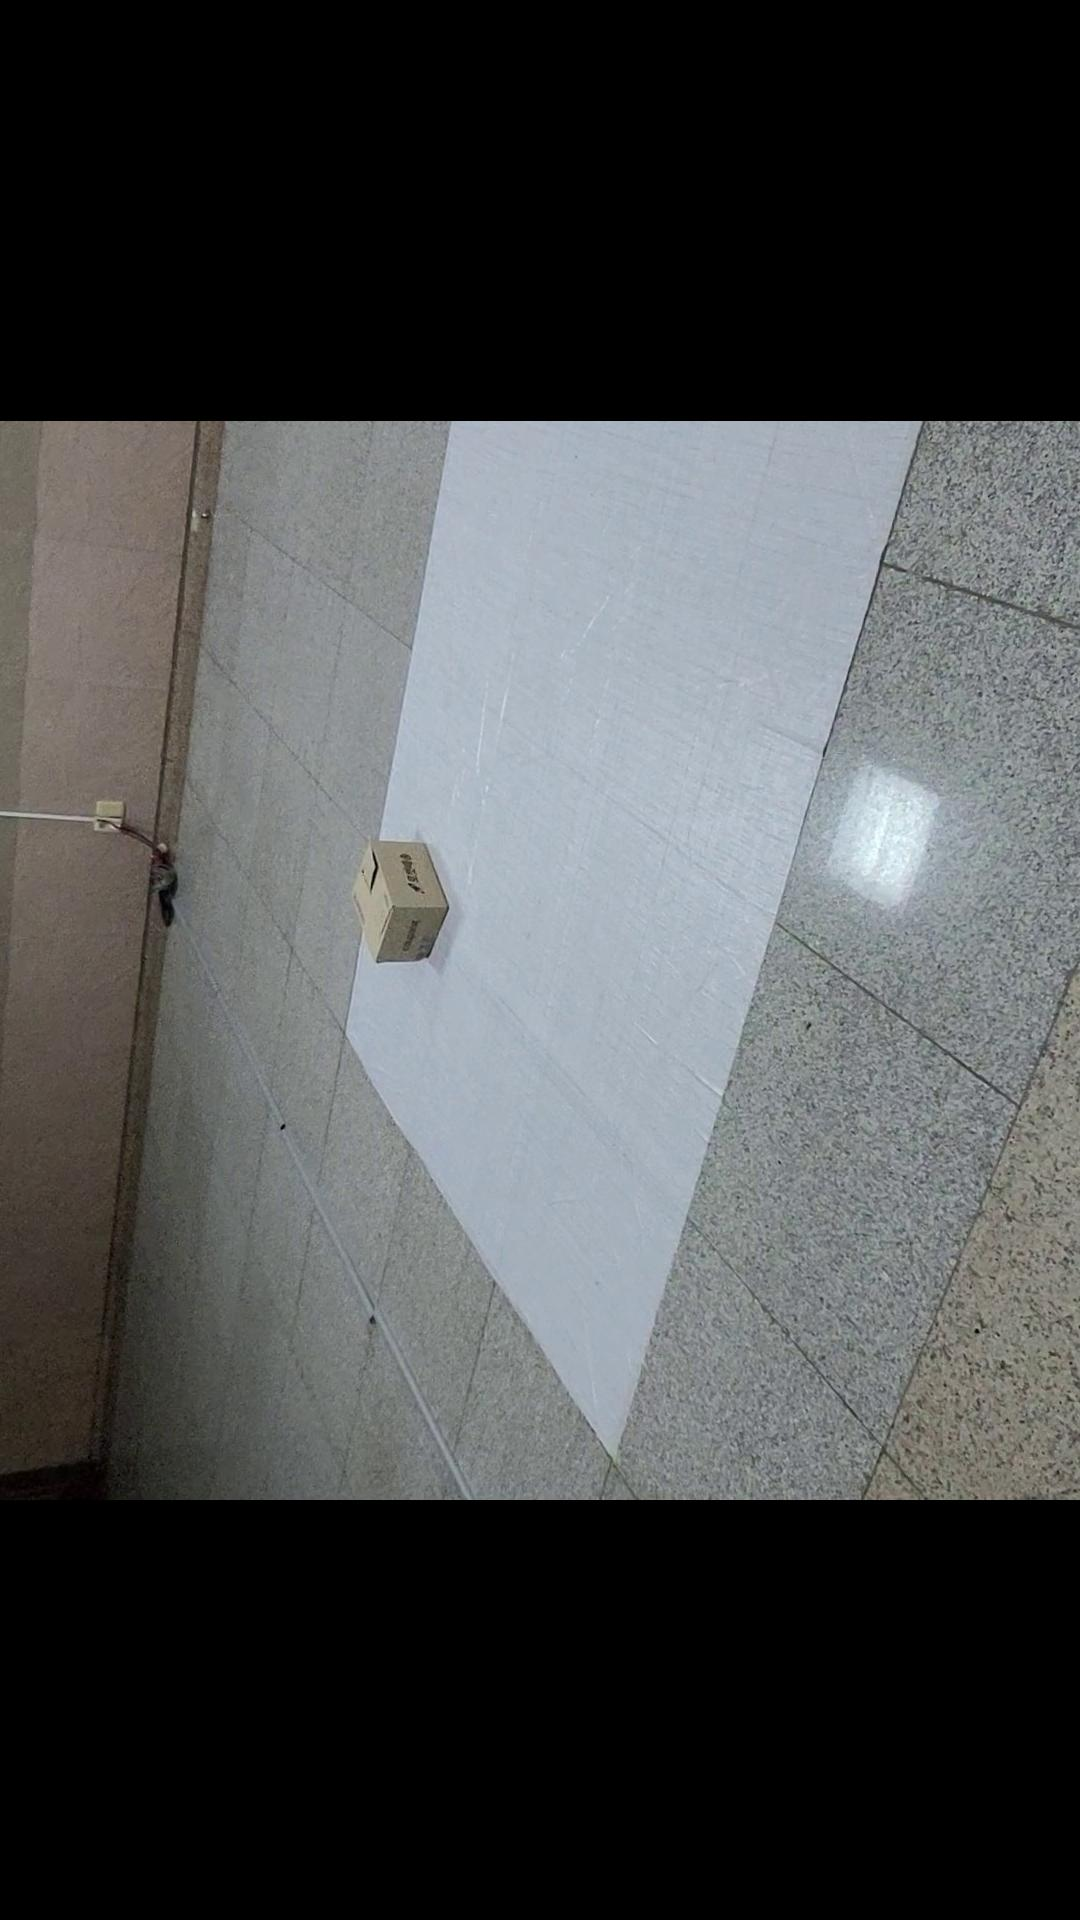Box: (334, 803, 475, 978)
